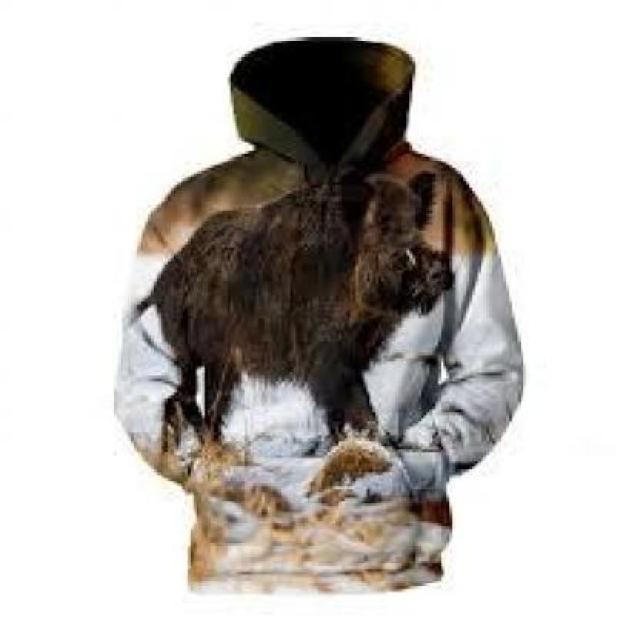wildboar: (123, 163, 463, 488)
